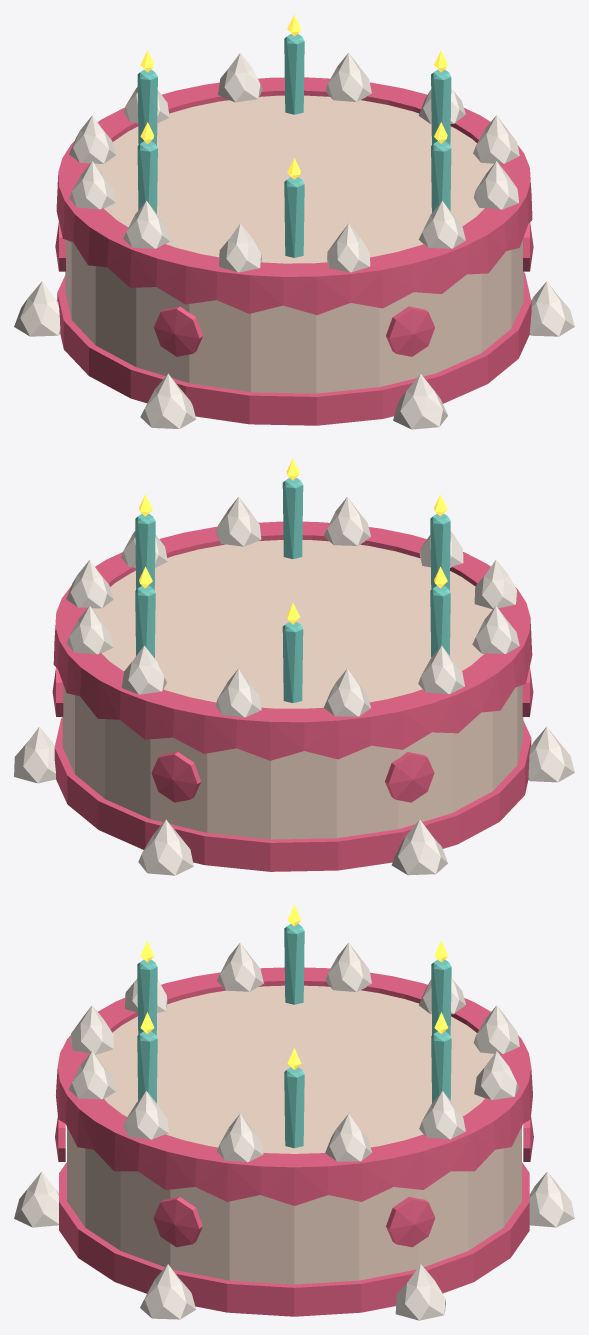
The model's file is CV3_CakeTop.fbx.
The picture shows the model from 3 angles, top to bottom: view 1: azimuth 30°, elevation 25°; view 2: azimuth 150°, elevation 25°; view 3: azimuth 270°, elevation 25°; orthographic projection.
Visible parts, largest first — view 1: CV3_CakeTop_Body, CV3_CakeTop_Band, CV3_CakeTop_Frosting, CV3_CakeTop_Candles, CV3_CakeTop_Neon_Flames; view 2: CV3_CakeTop_Body, CV3_CakeTop_Band, CV3_CakeTop_Frosting, CV3_CakeTop_Candles, CV3_CakeTop_Neon_Flames; view 3: CV3_CakeTop_Body, CV3_CakeTop_Band, CV3_CakeTop_Frosting, CV3_CakeTop_Candles, CV3_CakeTop_Neon_Flames.
Part boxes in pixels (box(x1,y1,x2,y2)): CV3_CakeTop_Body: box(65, 95, 523, 393); CV3_CakeTop_Band: box(55, 77, 533, 425); CV3_CakeTop_Frosting: box(14, 53, 574, 429); CV3_CakeTop_Candles: box(137, 34, 451, 257); CV3_CakeTop_Neon_Flames: box(140, 14, 447, 179); CV3_CakeTop_Body: box(62, 540, 523, 839); CV3_CakeTop_Band: box(52, 521, 533, 871); CV3_CakeTop_Frosting: box(14, 497, 574, 875); CV3_CakeTop_Candles: box(135, 477, 450, 702); CV3_CakeTop_Neon_Flames: box(139, 459, 447, 624); CV3_CakeTop_Body: box(67, 985, 521, 1284); CV3_CakeTop_Band: box(55, 967, 533, 1316); CV3_CakeTop_Frosting: box(14, 942, 574, 1320); CV3_CakeTop_Candles: box(137, 923, 451, 1148); CV3_CakeTop_Neon_Flames: box(140, 904, 448, 1069).
Size of the model in its own units: 27.83 by 15 by 31.74.
